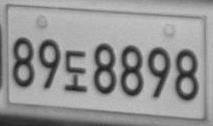8: (174, 48, 199, 101), (119, 44, 144, 96), (93, 42, 117, 94), (11, 36, 35, 87)
9: (147, 46, 171, 98), (38, 38, 61, 89)
도: (64, 49, 88, 92)
